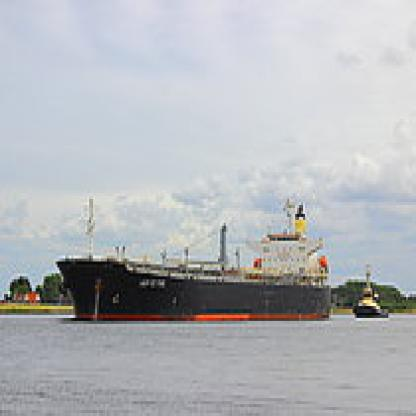Tanker: (53, 196, 340, 336)
